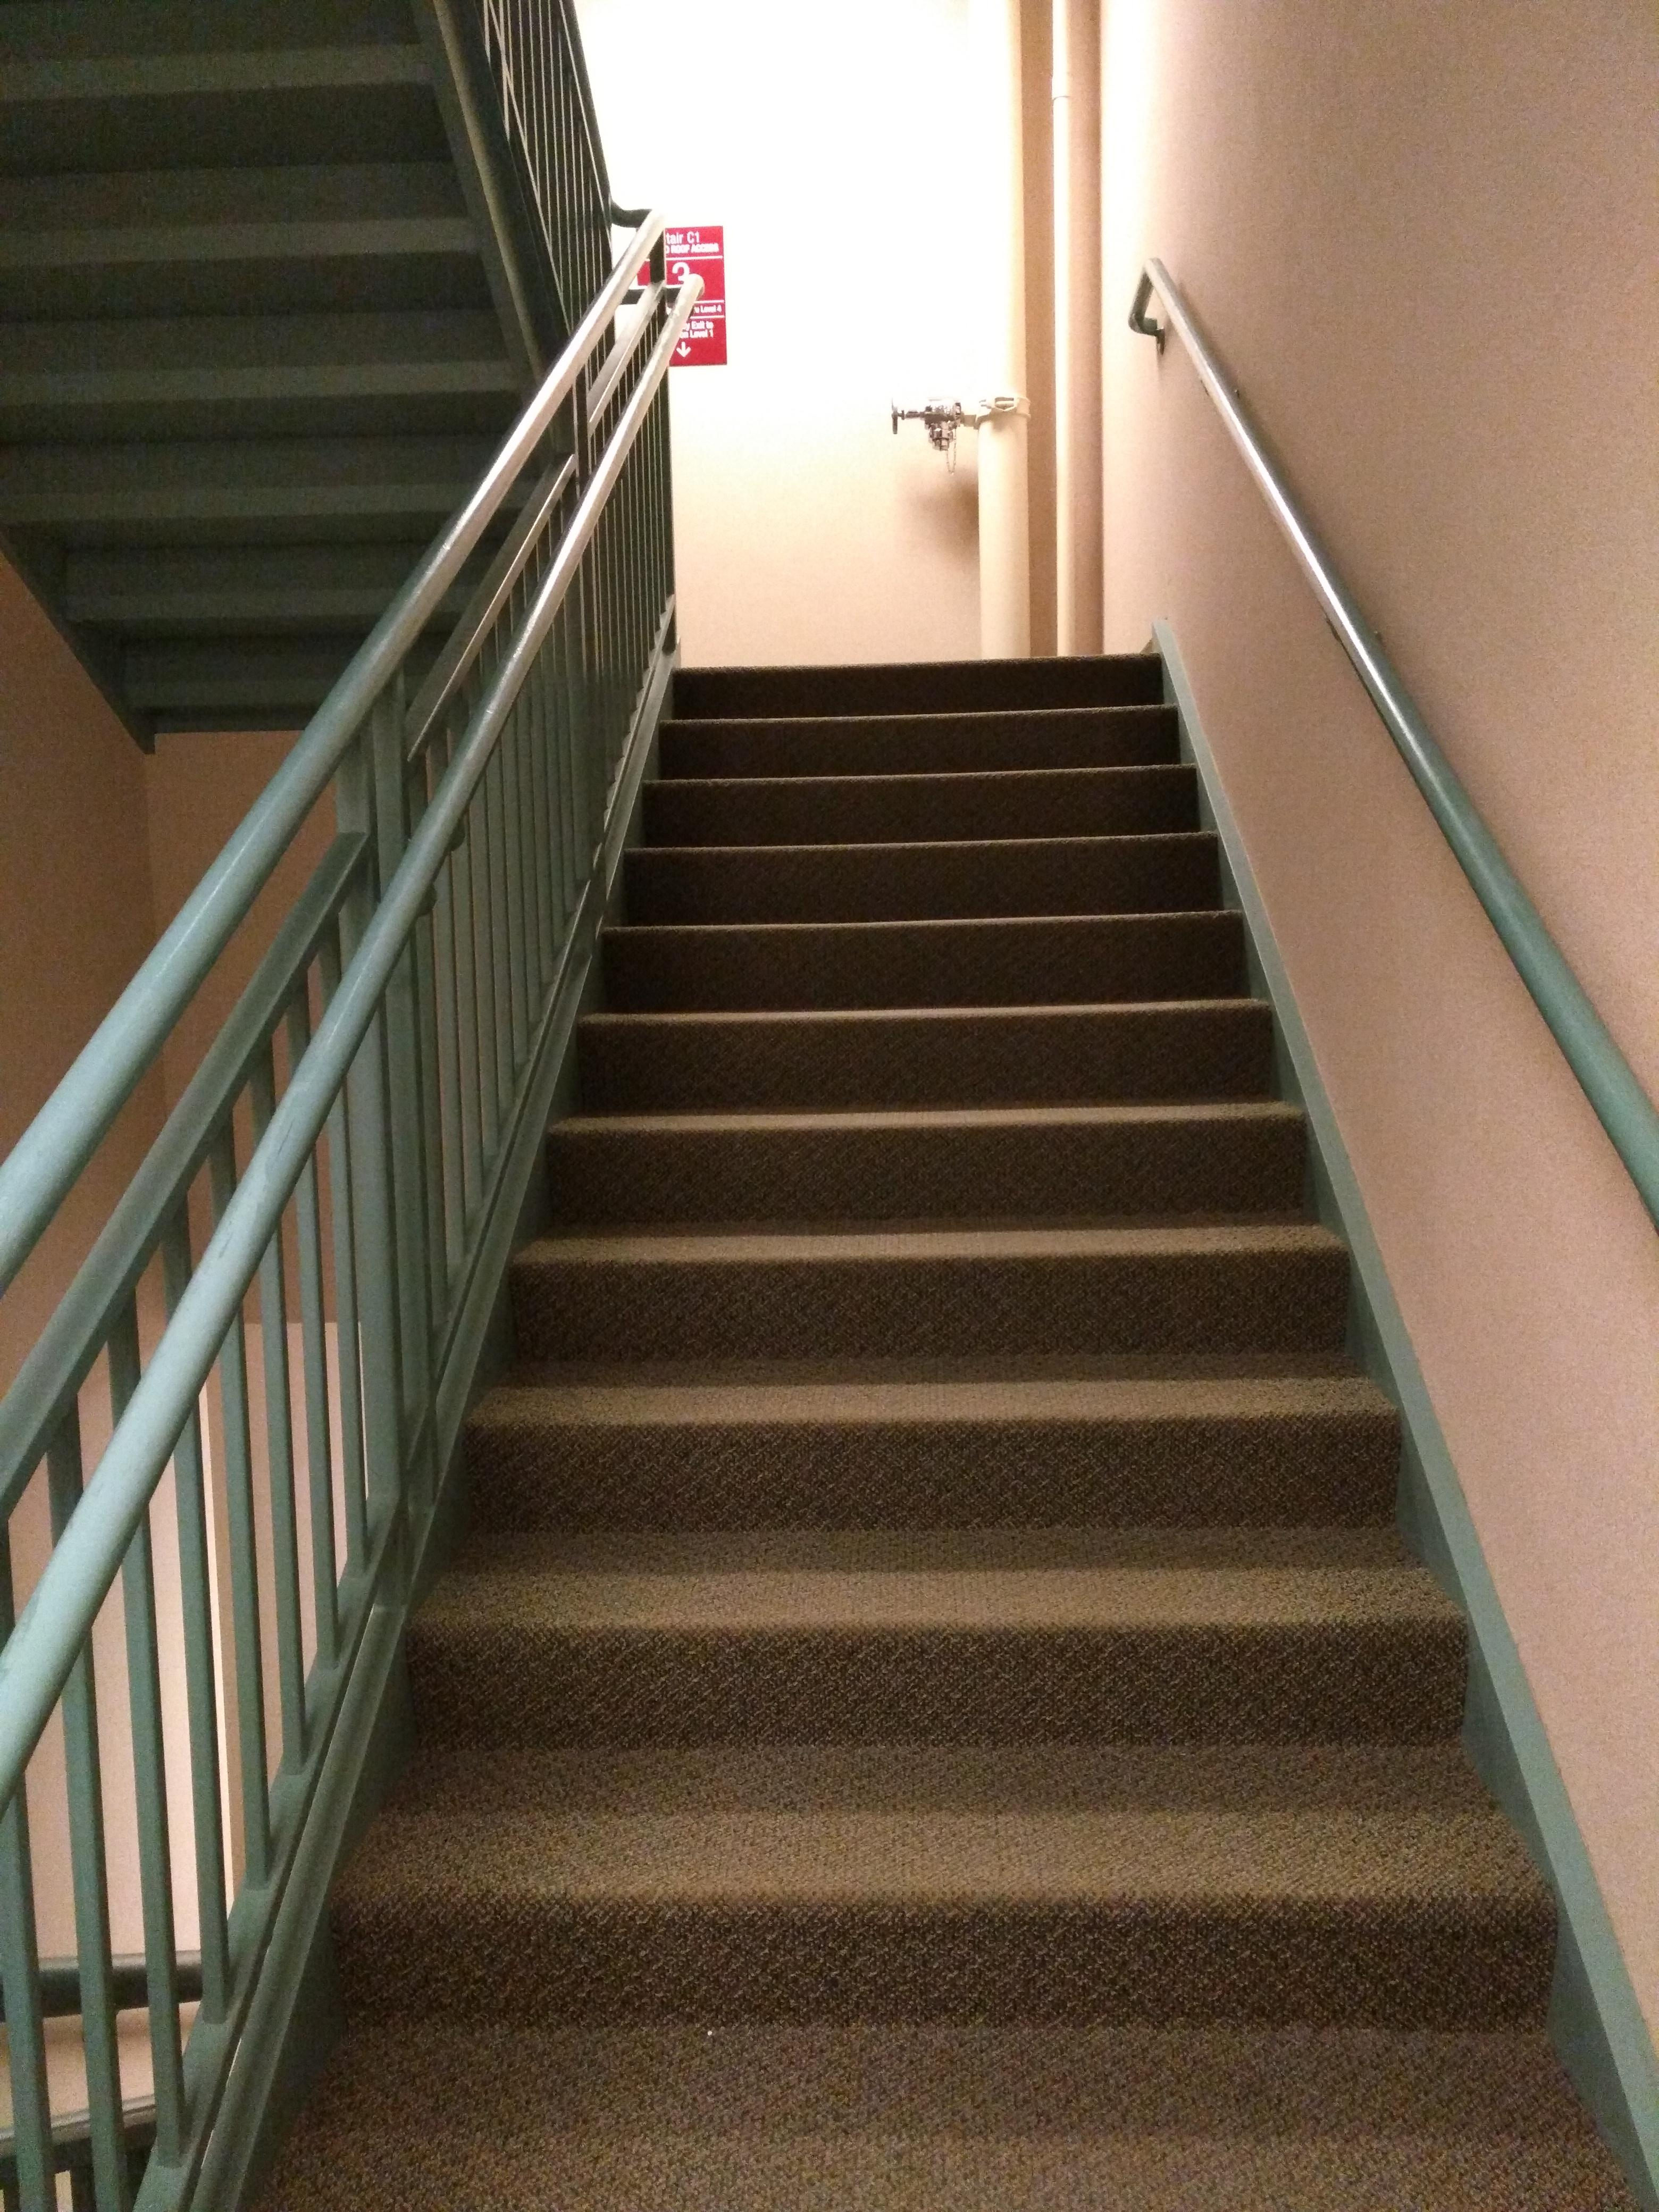stairs_up: (319, 587, 1588, 2095)
